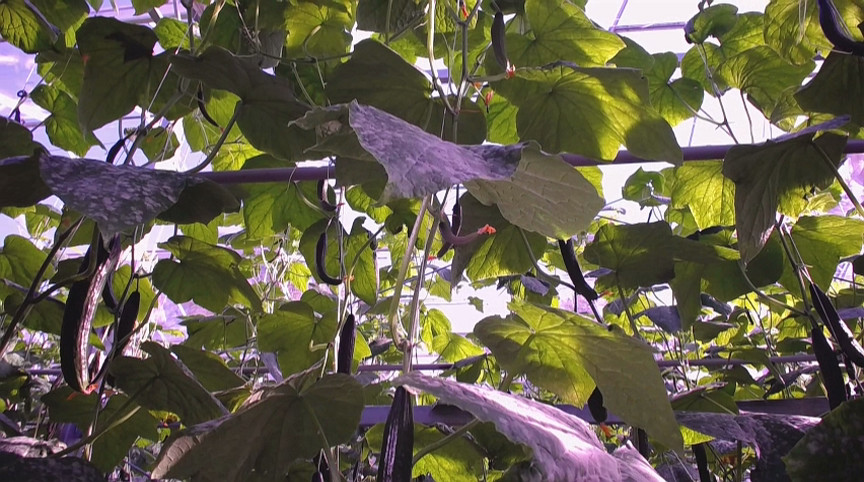cucumber: (61, 234, 121, 393), (809, 284, 864, 363), (378, 387, 415, 482), (810, 328, 848, 408), (558, 238, 598, 300), (335, 313, 359, 375)
